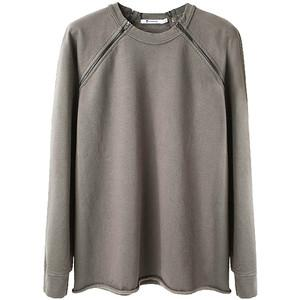C_long sleeve: (42, 1, 263, 297)
